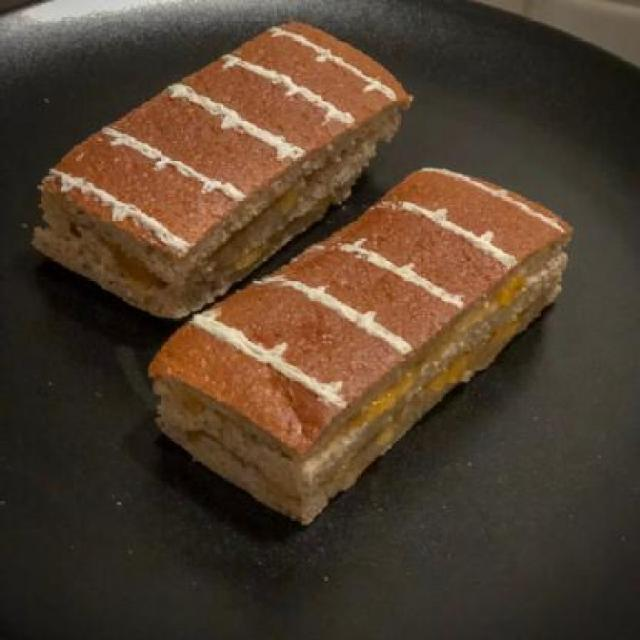Merendine packaged: (149, 167, 566, 524), (30, 18, 407, 318)
